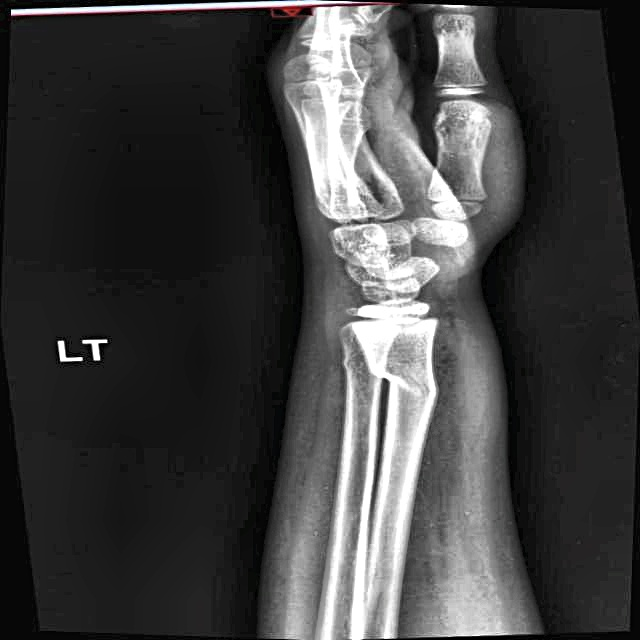Greenstick: (346, 341, 423, 396)
